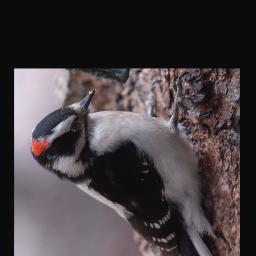Woodpecker: (26, 86, 228, 256)
